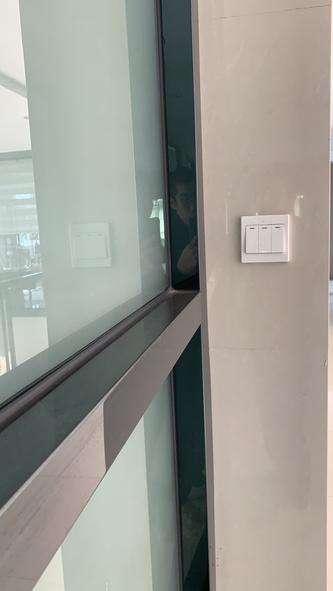switch: (255, 223, 271, 256), (271, 226, 288, 253), (245, 227, 258, 253)
